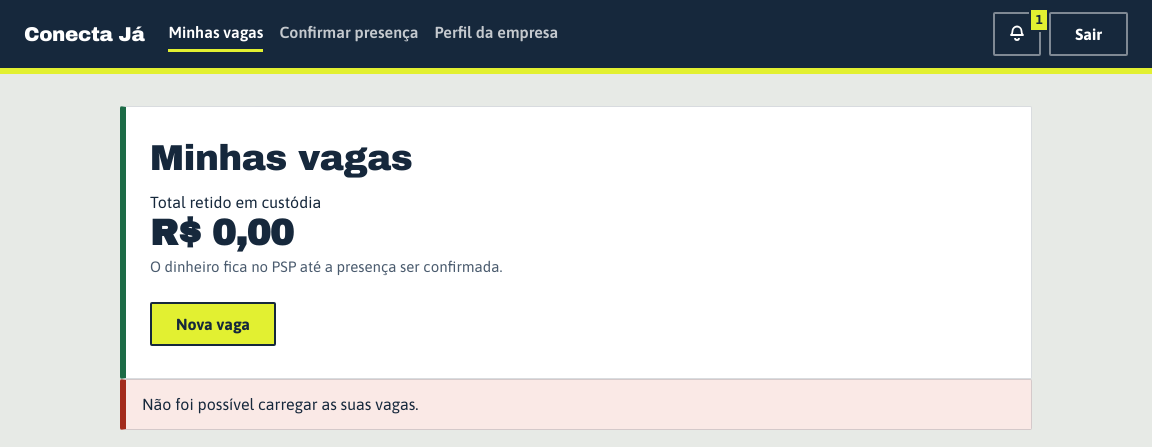
Scenario: App › mostra contador do sino e marca notificação como lida
This screenshot has width=1152, height=447.
Click the button named "Notificações (1 não lidas)" at (1017, 34), box 993,12 -> 1041,56
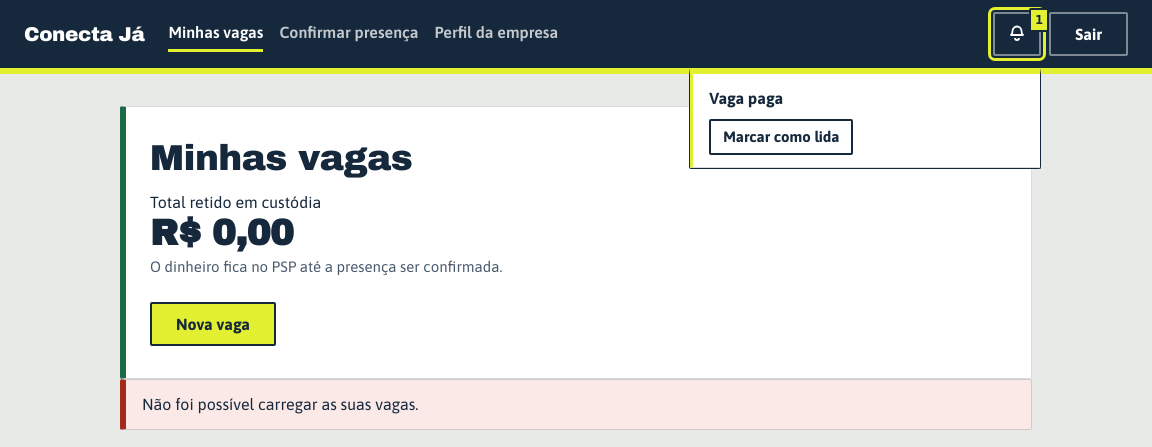
Check: the text "Vaga paga" is shown, box 709,89 -> 783,107
Click the button "Marcar como lida" at (781, 137), box 709,119 -> 854,155
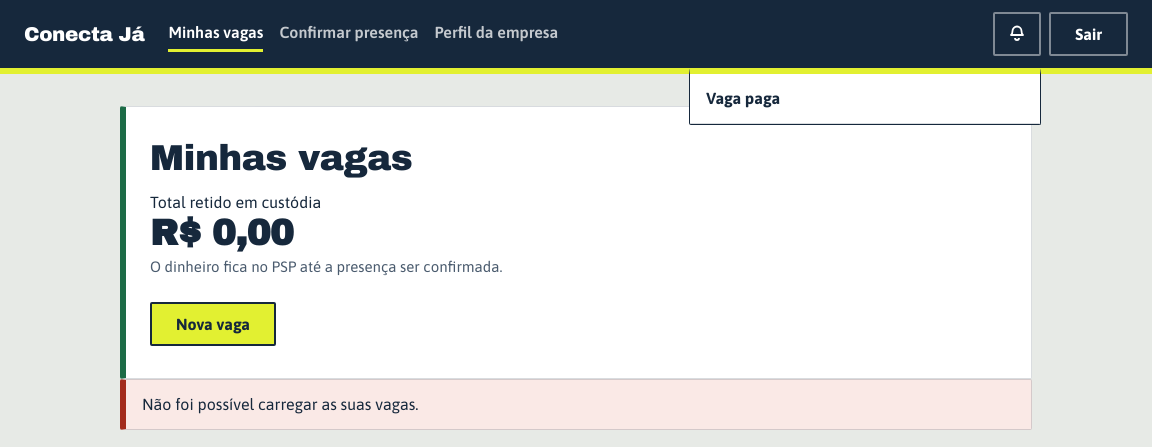
Check: the button named "Notificações (0 não lidas)" is shown, box 993,12 -> 1041,56
